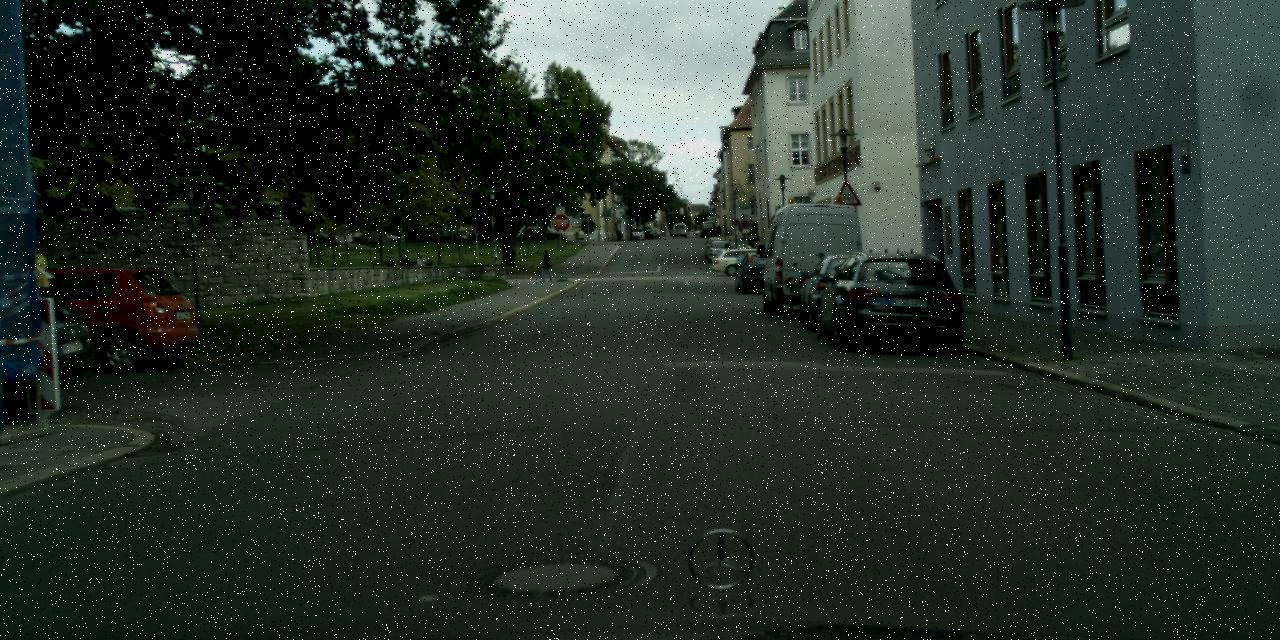ped: (539, 249, 552, 281)
